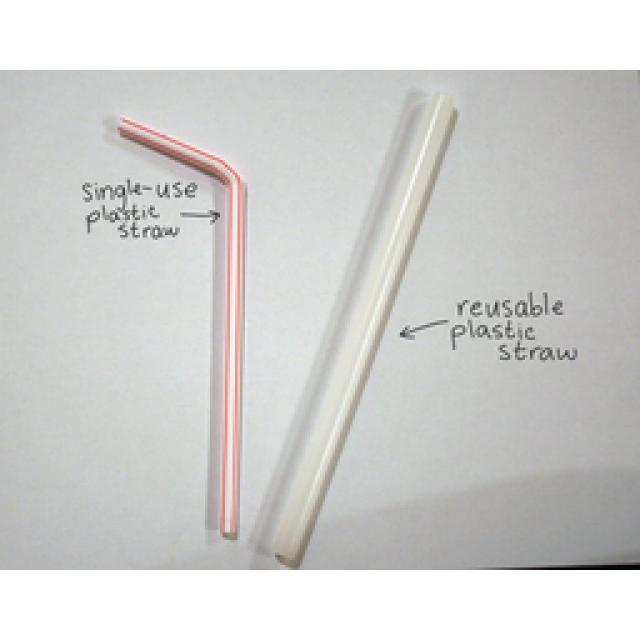plastic: (248, 87, 458, 565), (112, 110, 248, 540)
